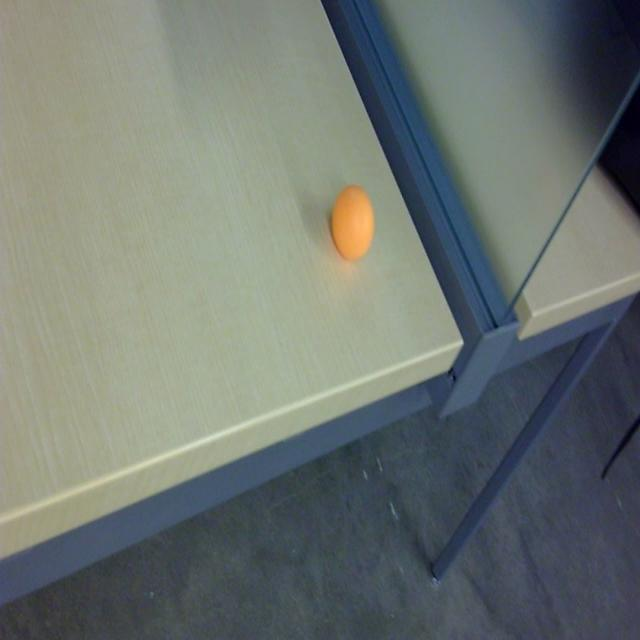ball: (331, 184, 375, 262)
